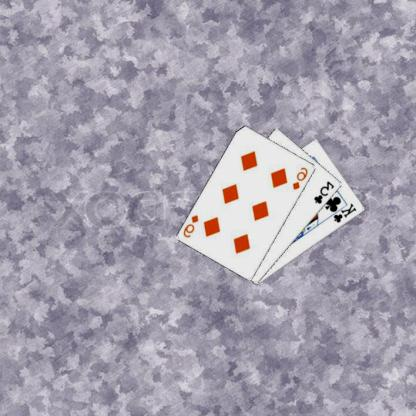3C: (313, 179, 337, 205)
6D: (292, 164, 311, 191), (183, 212, 202, 239)
KC: (328, 200, 359, 224)
